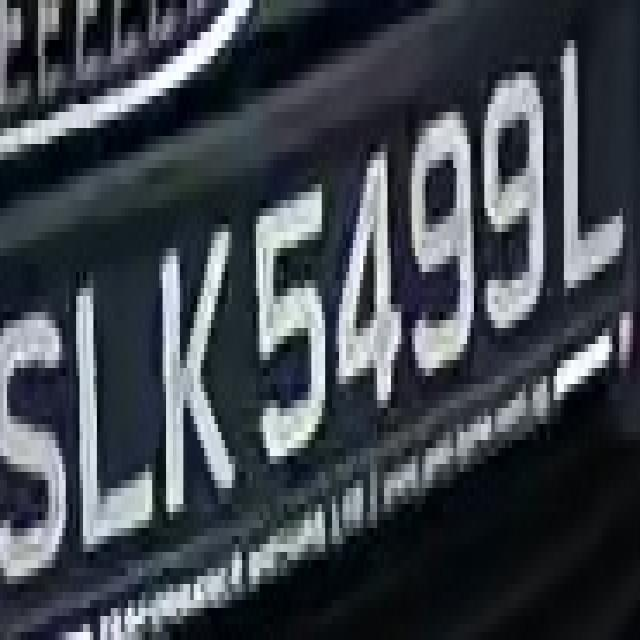4: (328, 120, 404, 440)
5: (245, 192, 342, 472)
9: (457, 80, 550, 352), (405, 104, 470, 408)
K: (156, 216, 246, 536)
L: (72, 232, 156, 568), (550, 16, 630, 328)
S: (7, 280, 73, 632)
